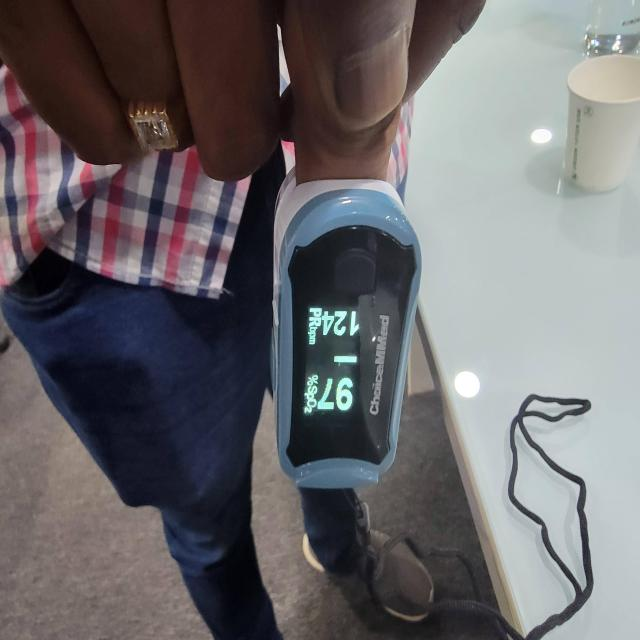spo2: (271, 179, 422, 567)
